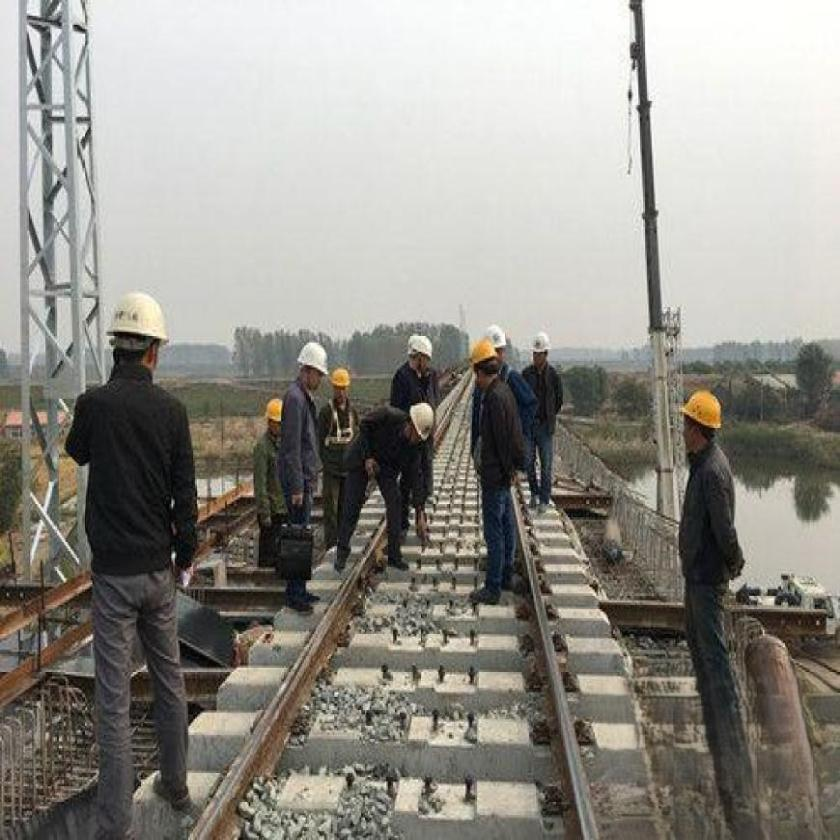Con_casco: (106, 288, 174, 392), (675, 387, 726, 463), (402, 396, 435, 454), (298, 345, 332, 396), (472, 343, 501, 390), (484, 323, 511, 366), (531, 333, 552, 370)
